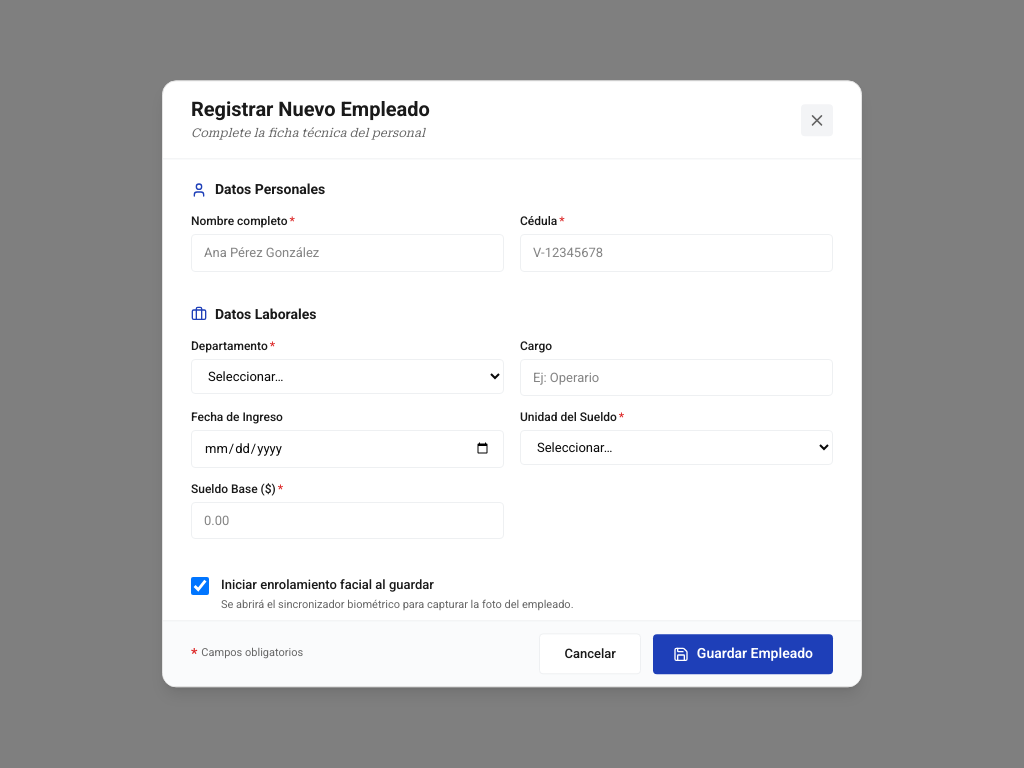
Scenario: NewEmployeeDialog › does not submit when required name/cédula/departamento fields are missing
Click the button with test id "new-employee-submit": x=743, y=654 [653,634,833,674]
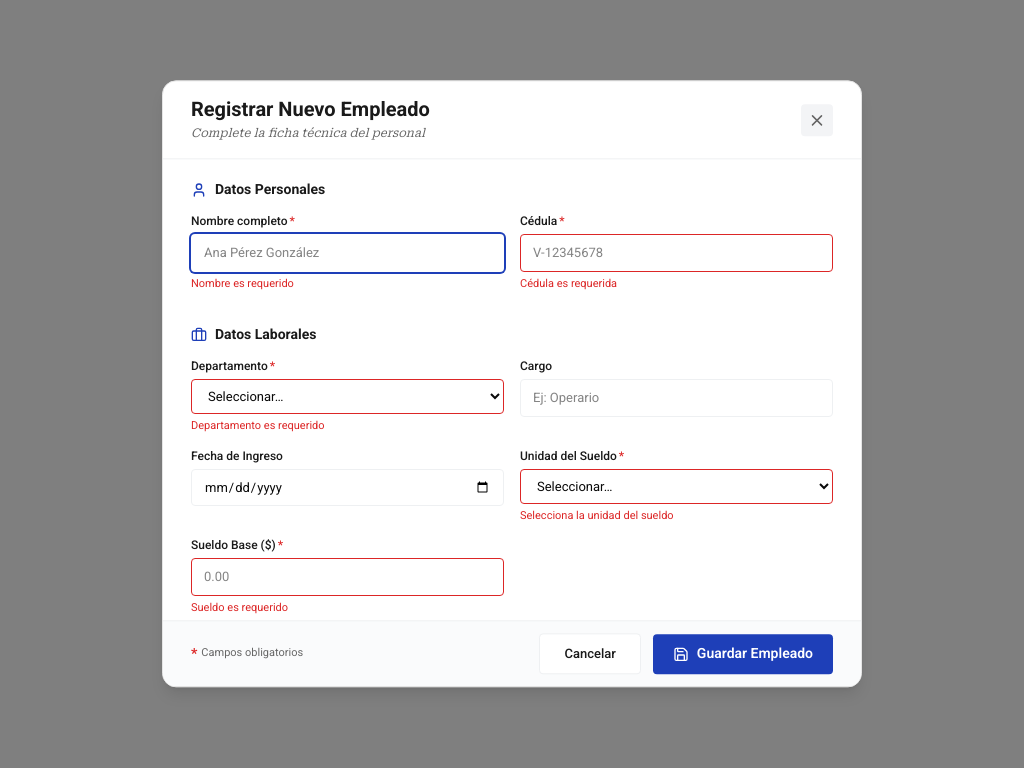
expect the text "Nombre es requerido" is shown: met, box [191,277,294,290]
